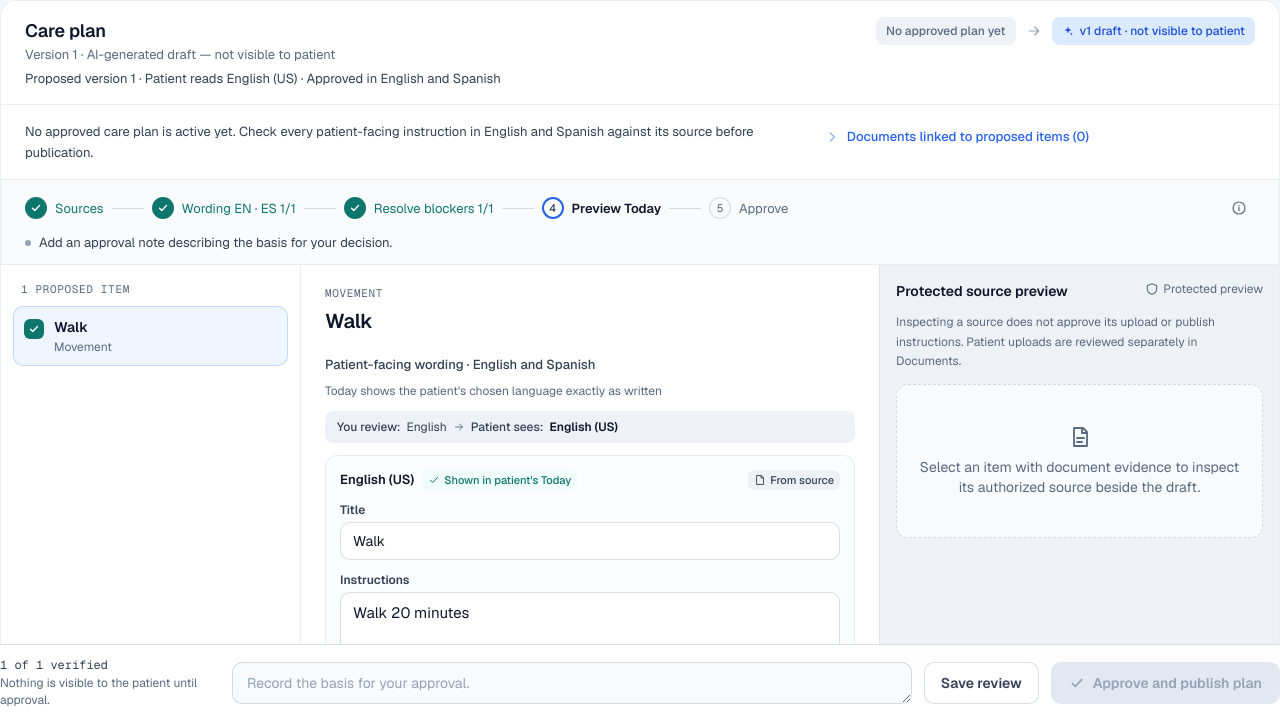
it: CarePlanPanel › does not allow approval while the clinician has unsaved changes
Type "Verified" into the text box with placeholder "Record the basis for your approval.".
click(572, 682); type("Verified")  # box [232,662,912,704]
(page scrolled)
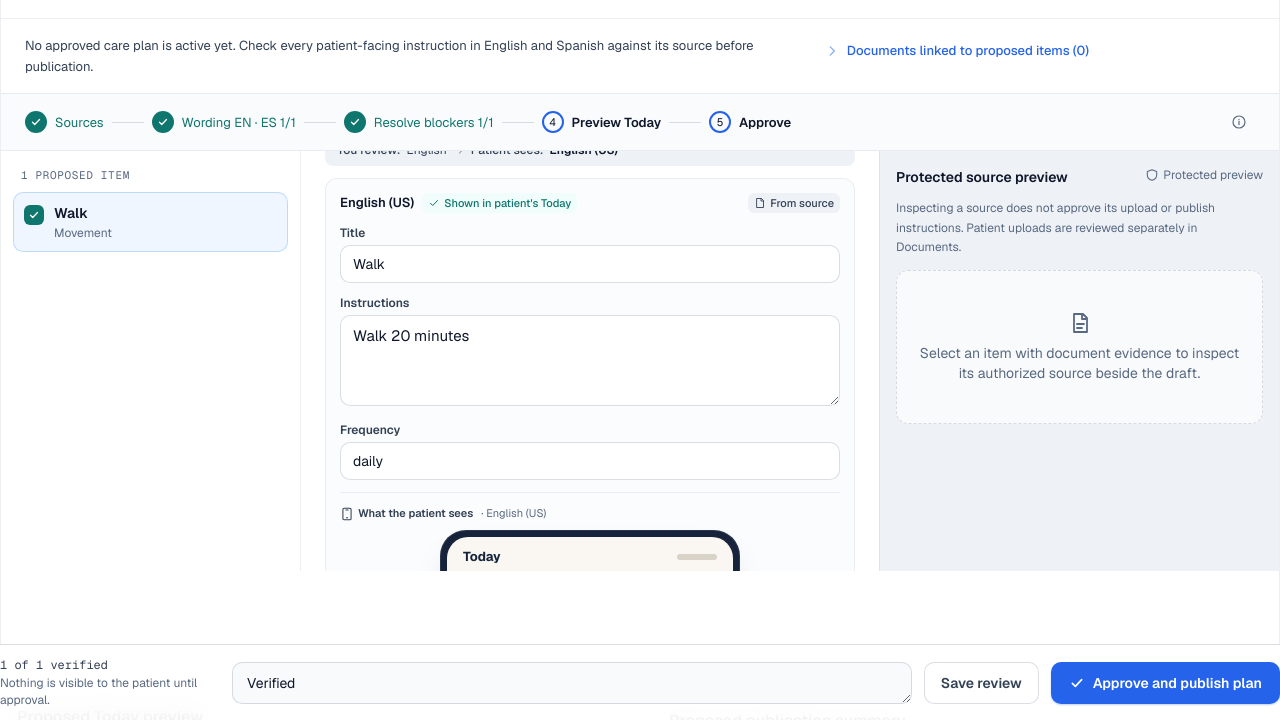
Now the button "Approve and publish plan" is enabled, box [1051,662,1279,704]
Replace the text in the text box showing "Walk 20 minutes" with "Walk 30 minutes" at (590, 361), box [340,315,840,406]
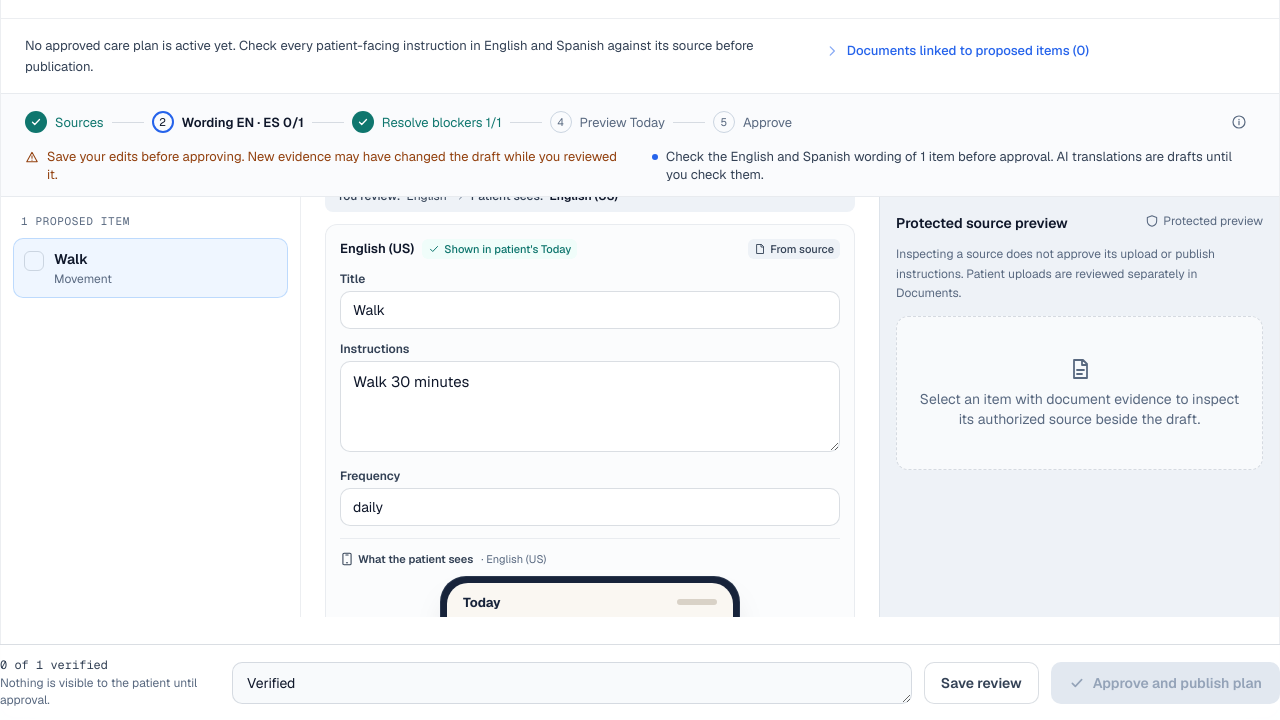
Now the button "Approve and publish plan" is disabled, box [1051,662,1279,704]
Now the text "Save your edits before approving" is shown, box [47,148,617,183]
